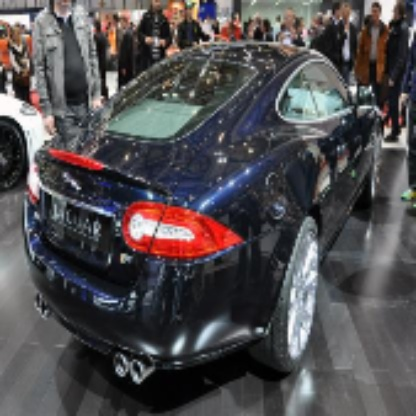Vehicle: (23, 42, 385, 387)
